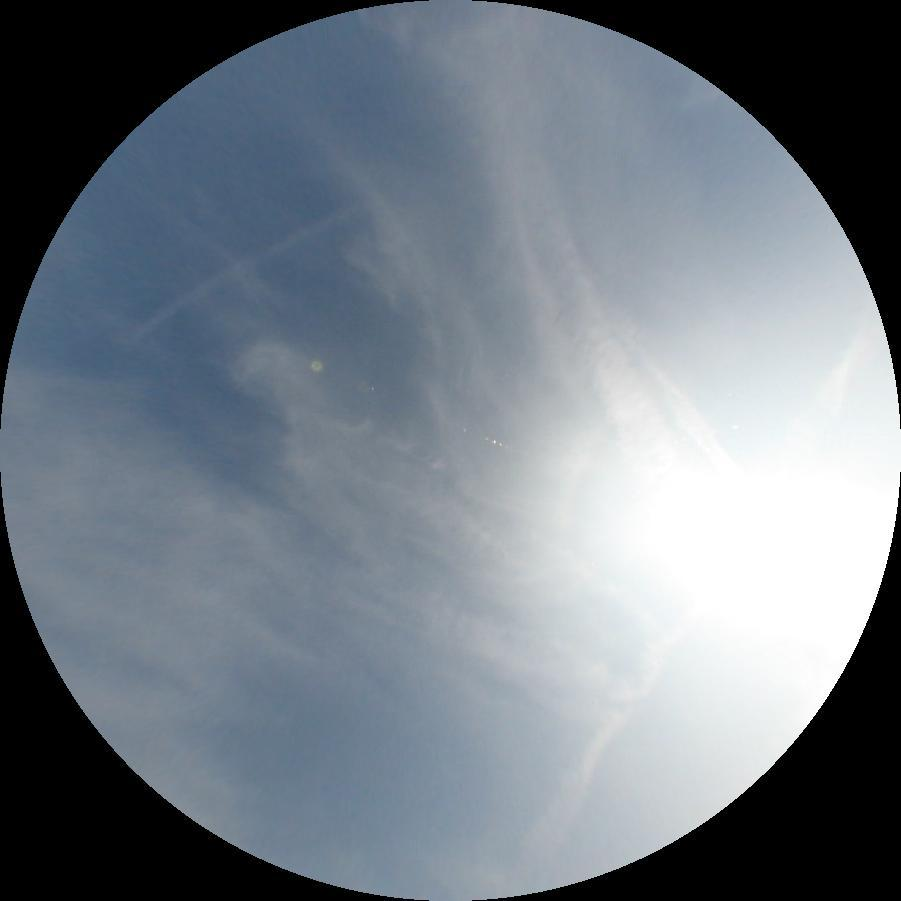contrail veryold: (503, 303, 898, 893), (452, 124, 696, 511), (125, 202, 355, 341), (598, 295, 733, 477)
sun: (640, 455, 900, 642)
